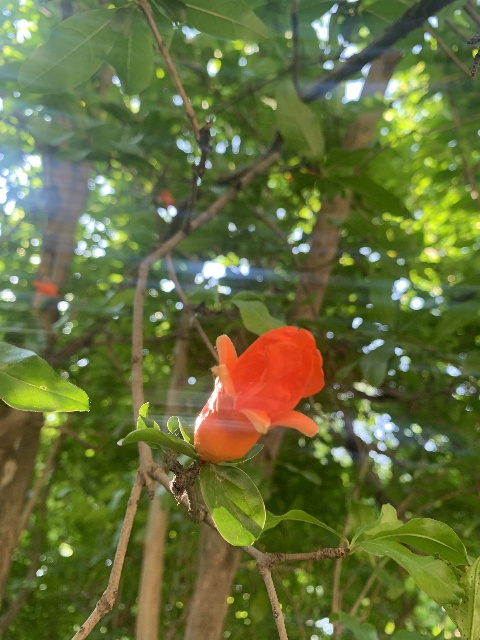flower: (194, 325, 324, 463)
